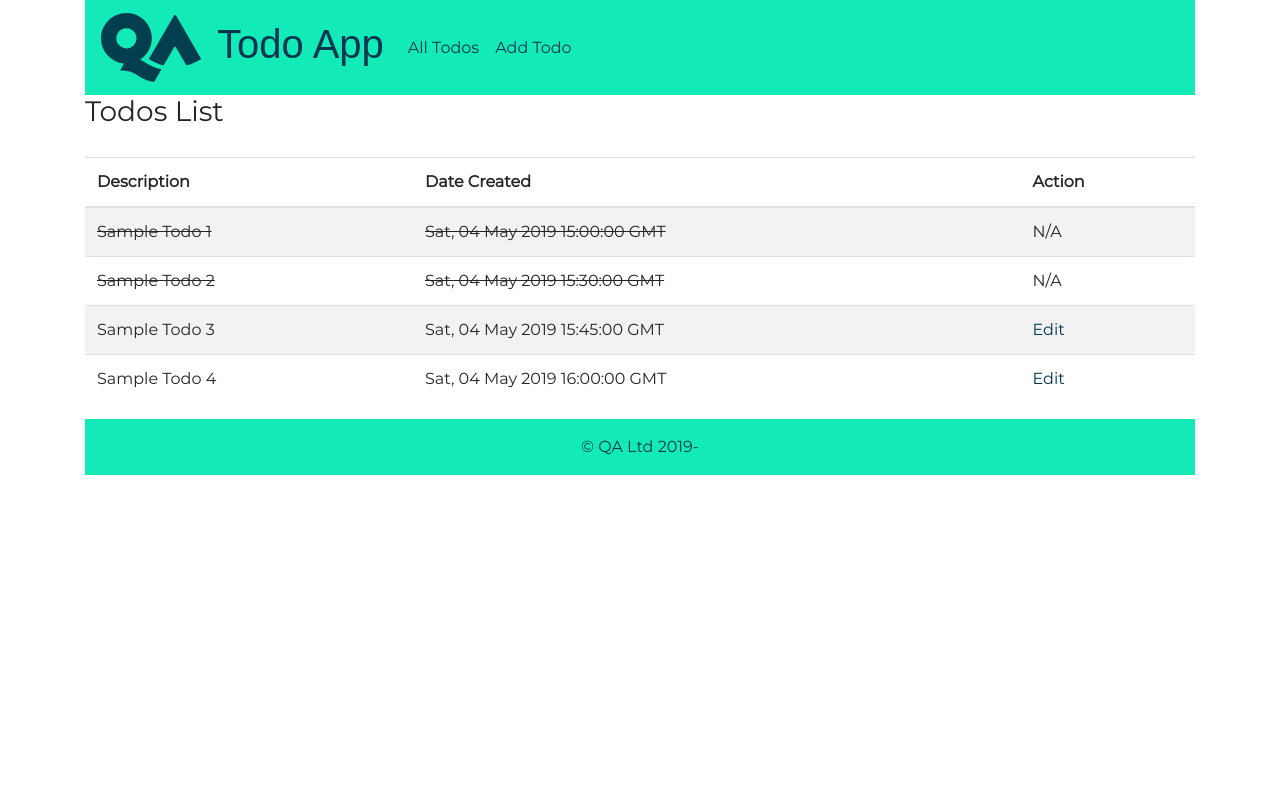
Conditional renders dependent on result of data calls › should display the modal when putError state is true from a put request
This screenshot has width=1280, height=800.
Step 1. Click the link "Edit" in the row of "Sample Todo 3" → (1049, 329), box 1032,320 -> 1065,339
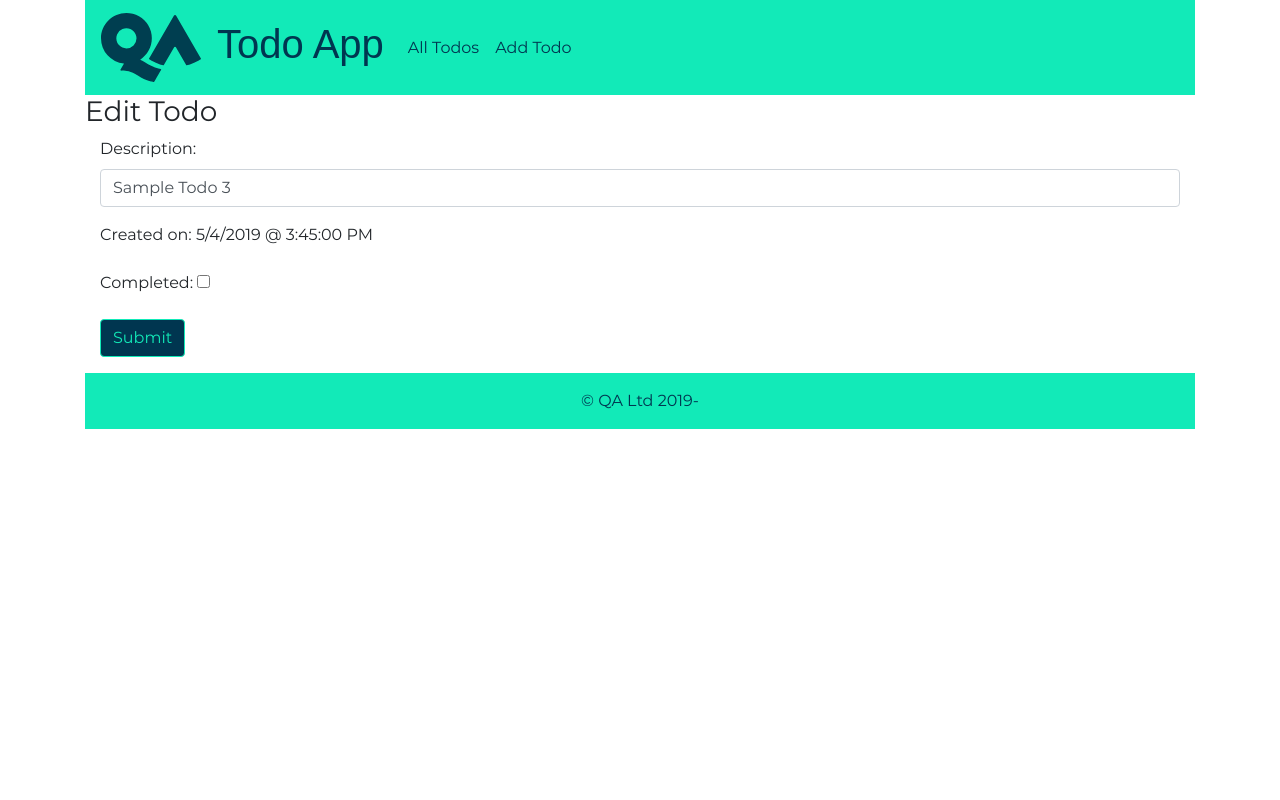
Step 2. Type "Sample Todo" into the field with placeholder "Todo description" → (640, 188), box 100,169 -> 1180,207
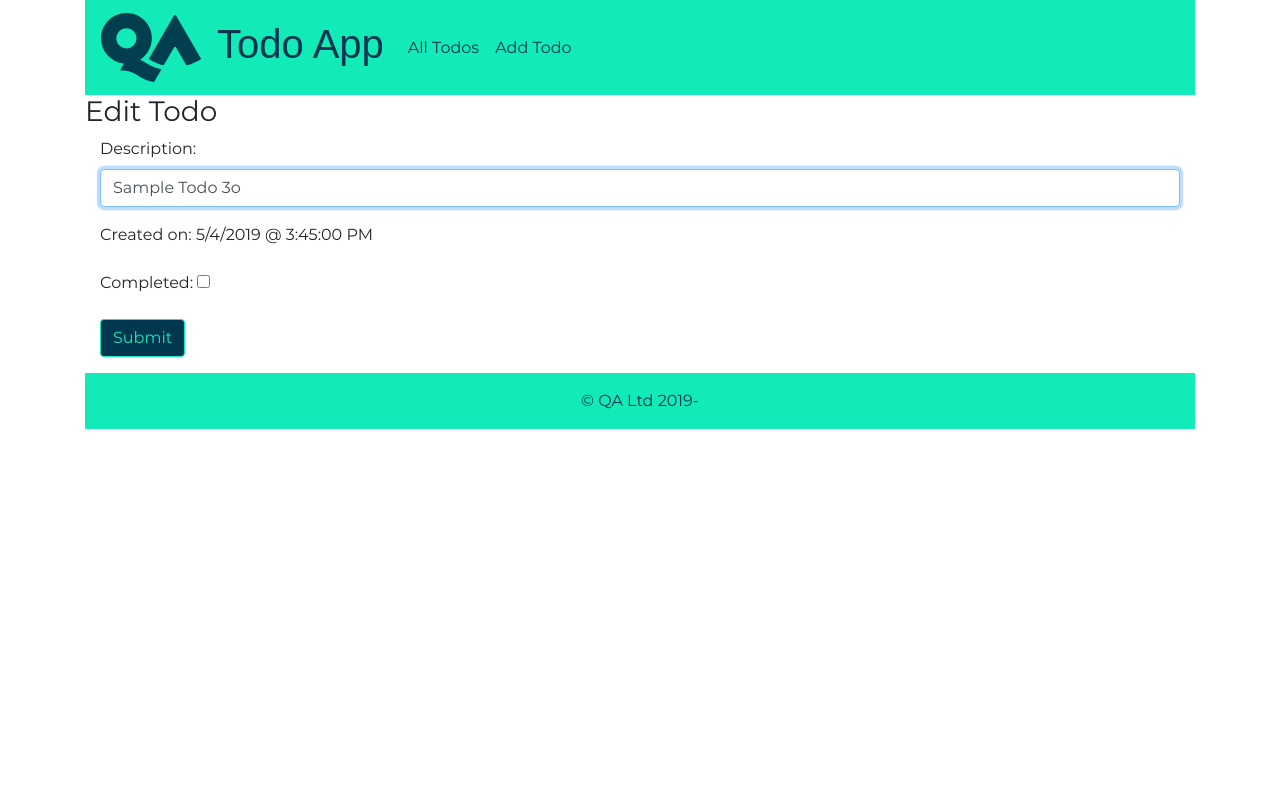
Step 3. Click the button showing "submit" → (143, 338), box 100,319 -> 185,357
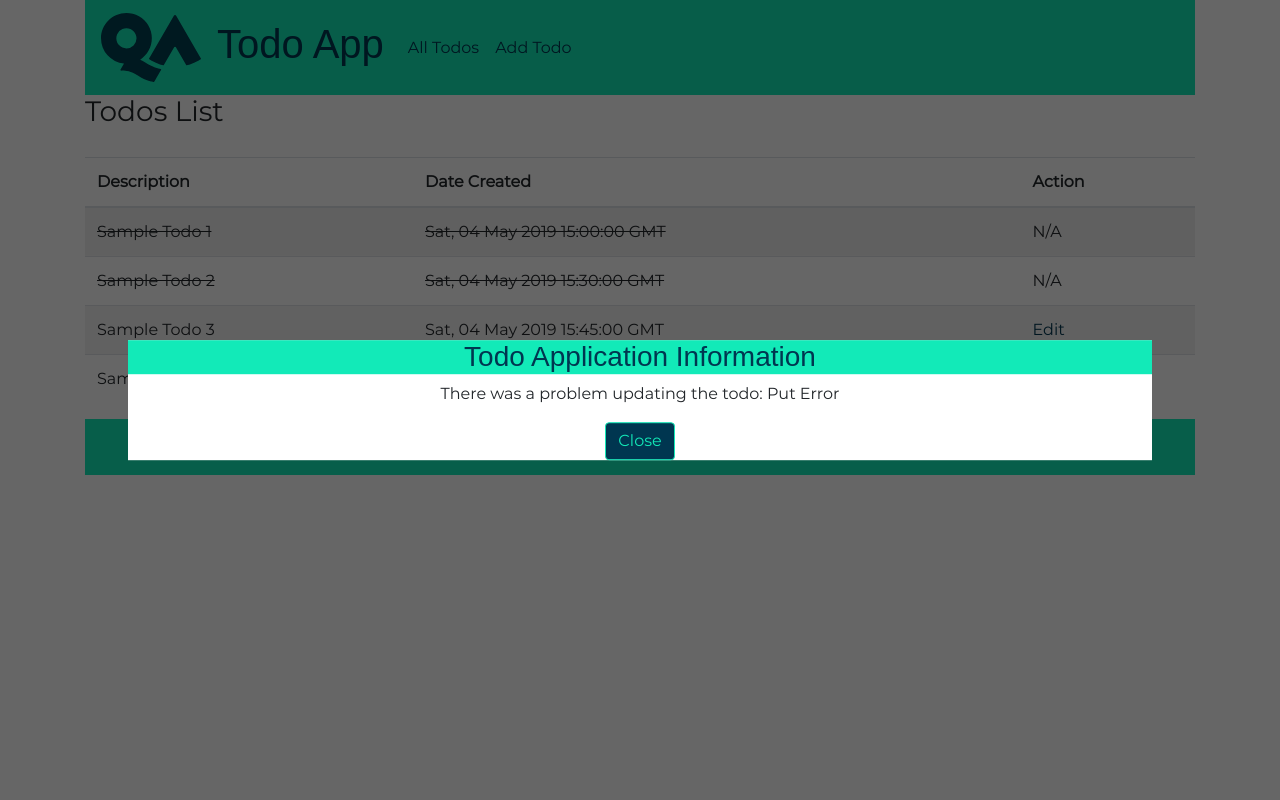
expect the text "There was a problem updating the todo: Put Error" is shown: met, box 440,384 -> 840,403
